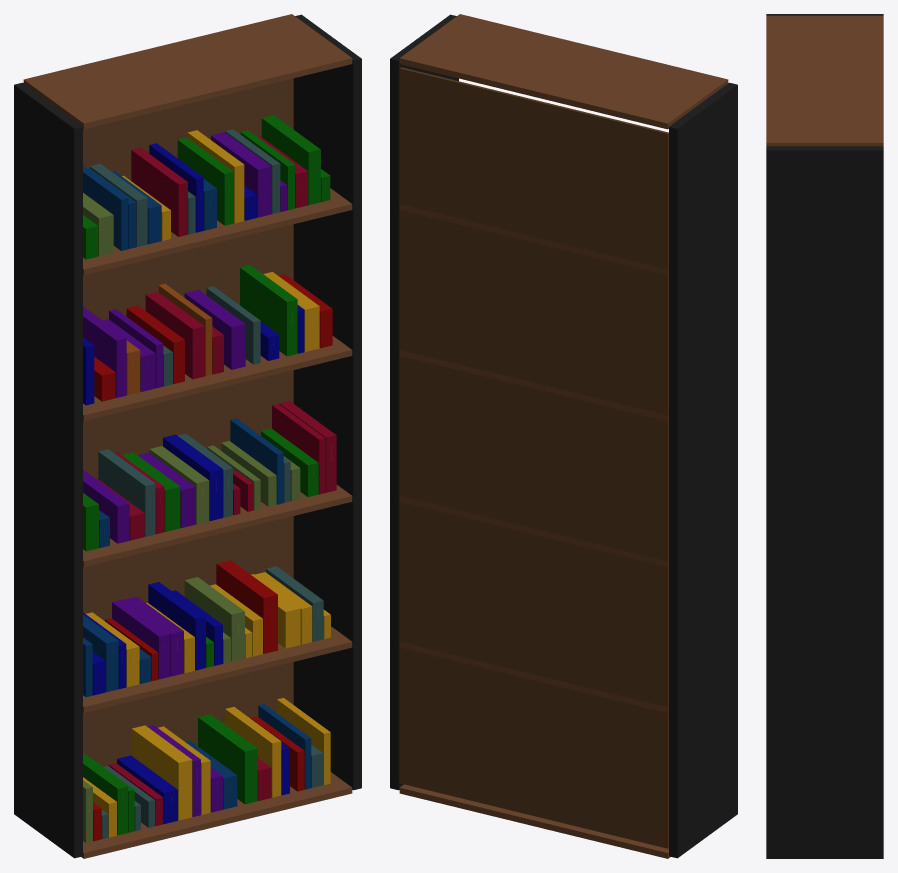
File: bookshelf.glb
3 renders of one model, left to right at view 1: azimuth 30°, elevation 25°; view 2: azimuth 150°, elevation 25°; view 3: azimuth 270°, elevation 25°, orthographic. The views are drawn at different scales.
Bounding box in the file's own units: 0.825 × 2.02 × 0.3.
